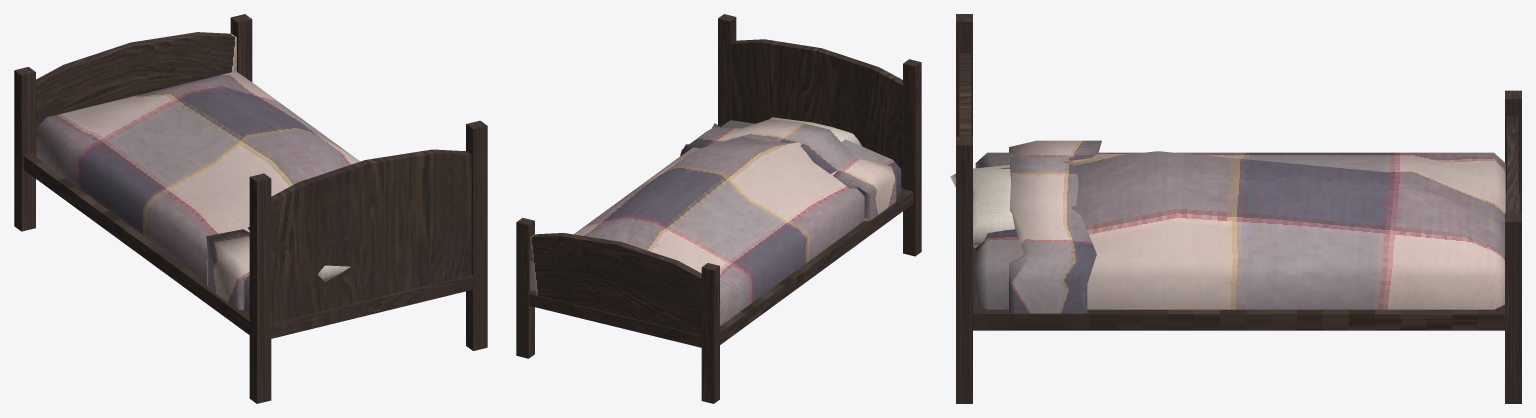
The model's file is bad.glb.
3 renders of one model, left to right at view 1: azimuth 30°, elevation 25°; view 2: azimuth 150°, elevation 25°; view 3: azimuth 270°, elevation 25°, orthographic. The views are drawn at different scales.
Visible parts, largest first — view 1: Bed_03; view 2: Bed_03, Pillow_07; view 3: Bed_03, Pillow_07.
Boxes of the visible parts, x1,y1,x2,y2 form: Bed_03: [14, 14, 487, 403]; Bed_03: [516, 14, 921, 403]; Pillow_07: [770, 117, 862, 146]; Bed_03: [956, 14, 1521, 403]; Pillow_07: [950, 165, 1014, 247].
Size of the model in its own units: 1.37 by 1.25 by 2.51.
2 materials, 2 textured.
